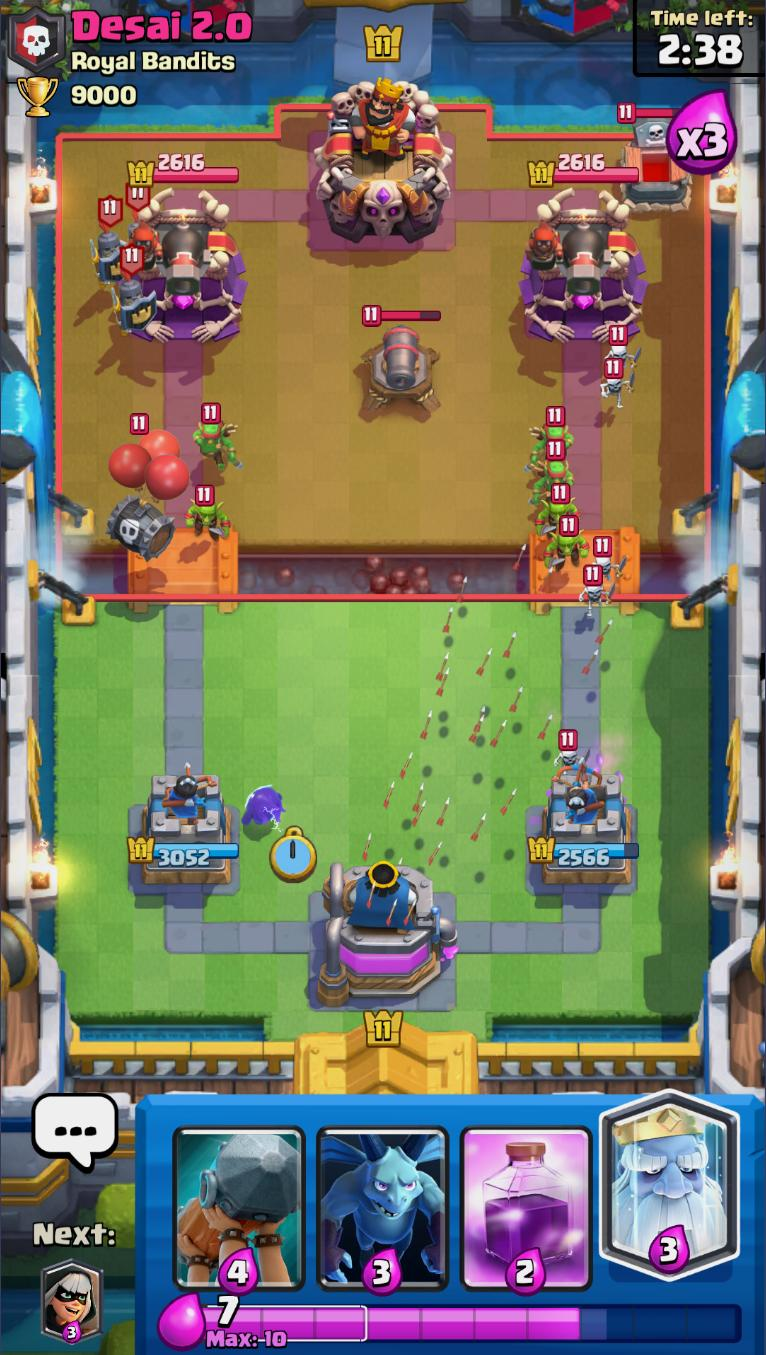BanditNext: (41, 1261, 101, 1346)
BattleRamDeck: (167, 1094, 313, 1294)
Cannon: (359, 303, 444, 419)
Cannoneer: (524, 214, 609, 300), (127, 216, 207, 300)
Elixir: (203, 1296, 743, 1346)
EnemyTower: (121, 187, 250, 343), (520, 189, 650, 343)
Goblin: (184, 486, 231, 544), (544, 516, 590, 574), (534, 483, 581, 539)
Guards: (110, 246, 159, 336), (91, 194, 127, 289), (124, 183, 147, 239)
KingTower: (314, 77, 456, 246)
MinionsDeck: (310, 1094, 456, 1299)
MyElectroSpirit: (240, 784, 284, 831)
MyKingTower: (319, 860, 457, 1011)
MyPrincessTower: (527, 774, 641, 890), (127, 776, 241, 890)
MyPrincessTowerHP: (127, 833, 241, 869), (526, 836, 641, 869)
RageDeck: (456, 1096, 597, 1293)
RoyaleGhostDeck: (596, 1096, 741, 1293)
Skeleton: (587, 536, 626, 589), (577, 566, 616, 617), (599, 357, 636, 410), (550, 730, 593, 771), (607, 326, 643, 366)
SkeletonBarrel: (104, 413, 191, 561)
SpearGoblin: (194, 401, 243, 476), (527, 406, 576, 469), (529, 439, 577, 503)
Tombstone: (616, 103, 694, 214)
TowerPrincessHP: (129, 153, 241, 189), (529, 153, 640, 189)
